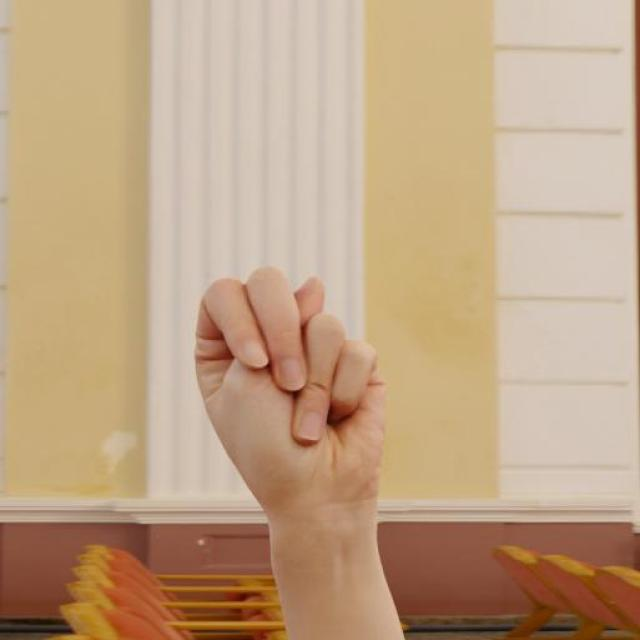N: (195, 263, 389, 505)
